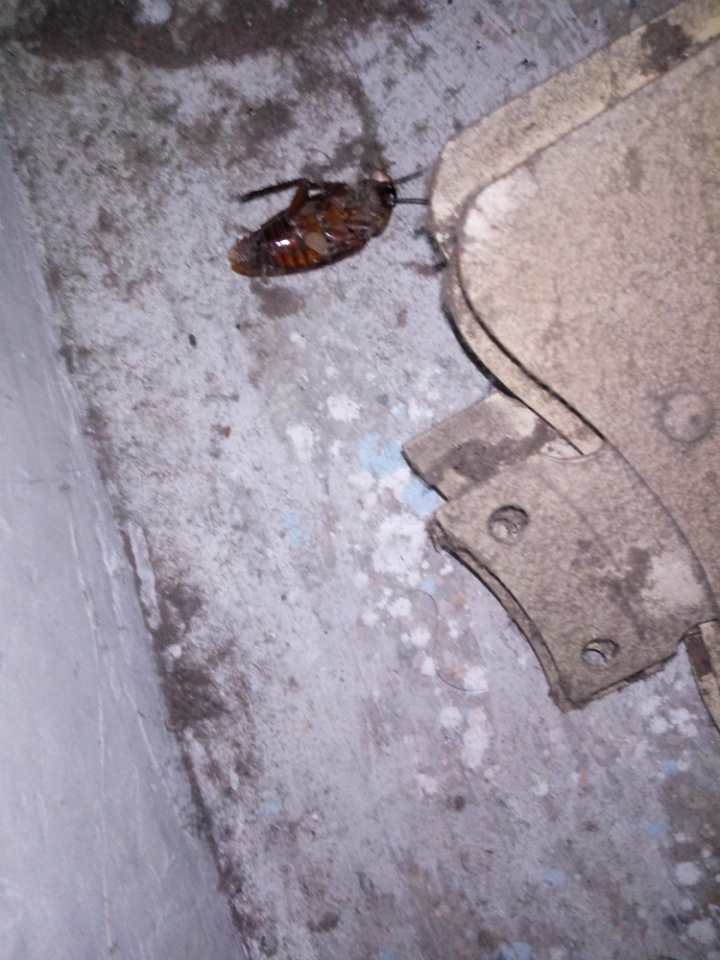cockroach: (182, 116, 438, 306)
